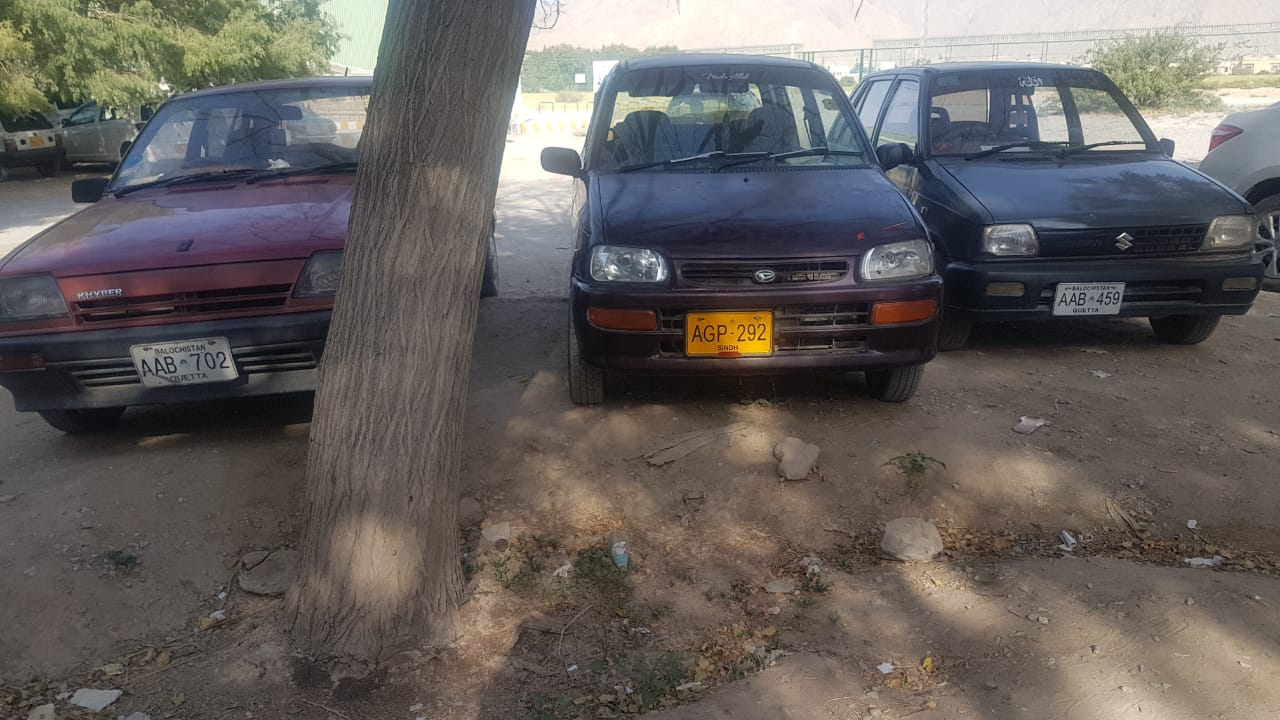license plate: (129, 344, 244, 391), (684, 312, 776, 355), (1054, 283, 1123, 318)
